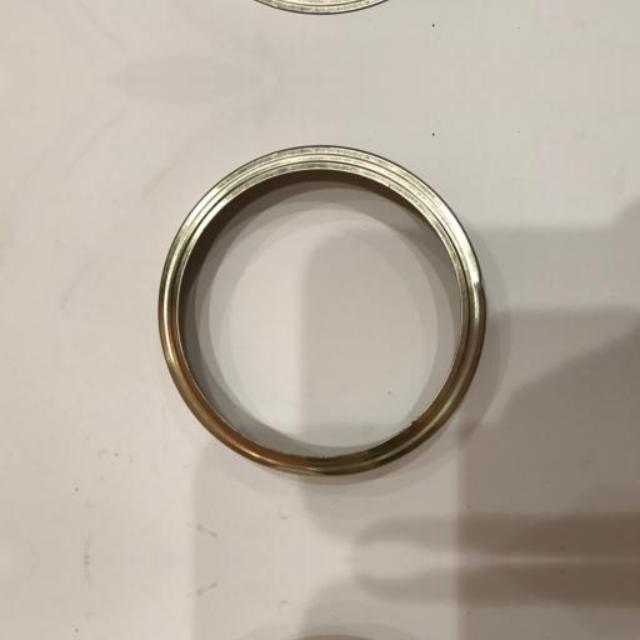Metal: (140, 122, 522, 504), (139, 0, 522, 38), (139, 616, 522, 640)
